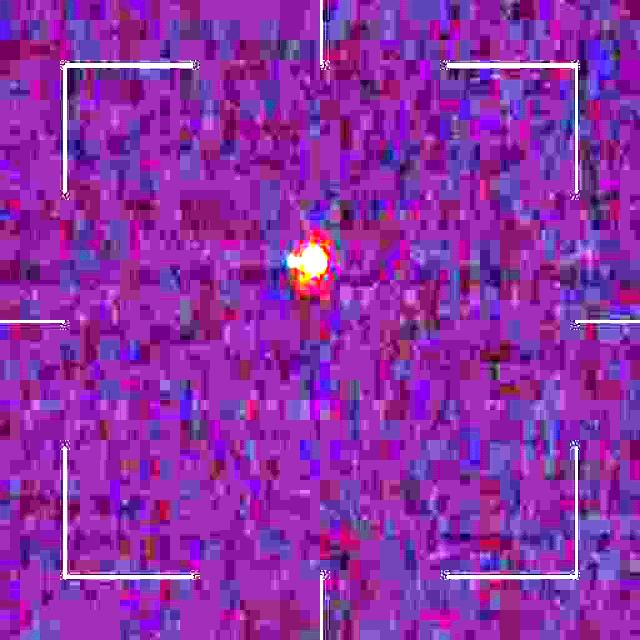bird: (285, 246, 329, 279)
